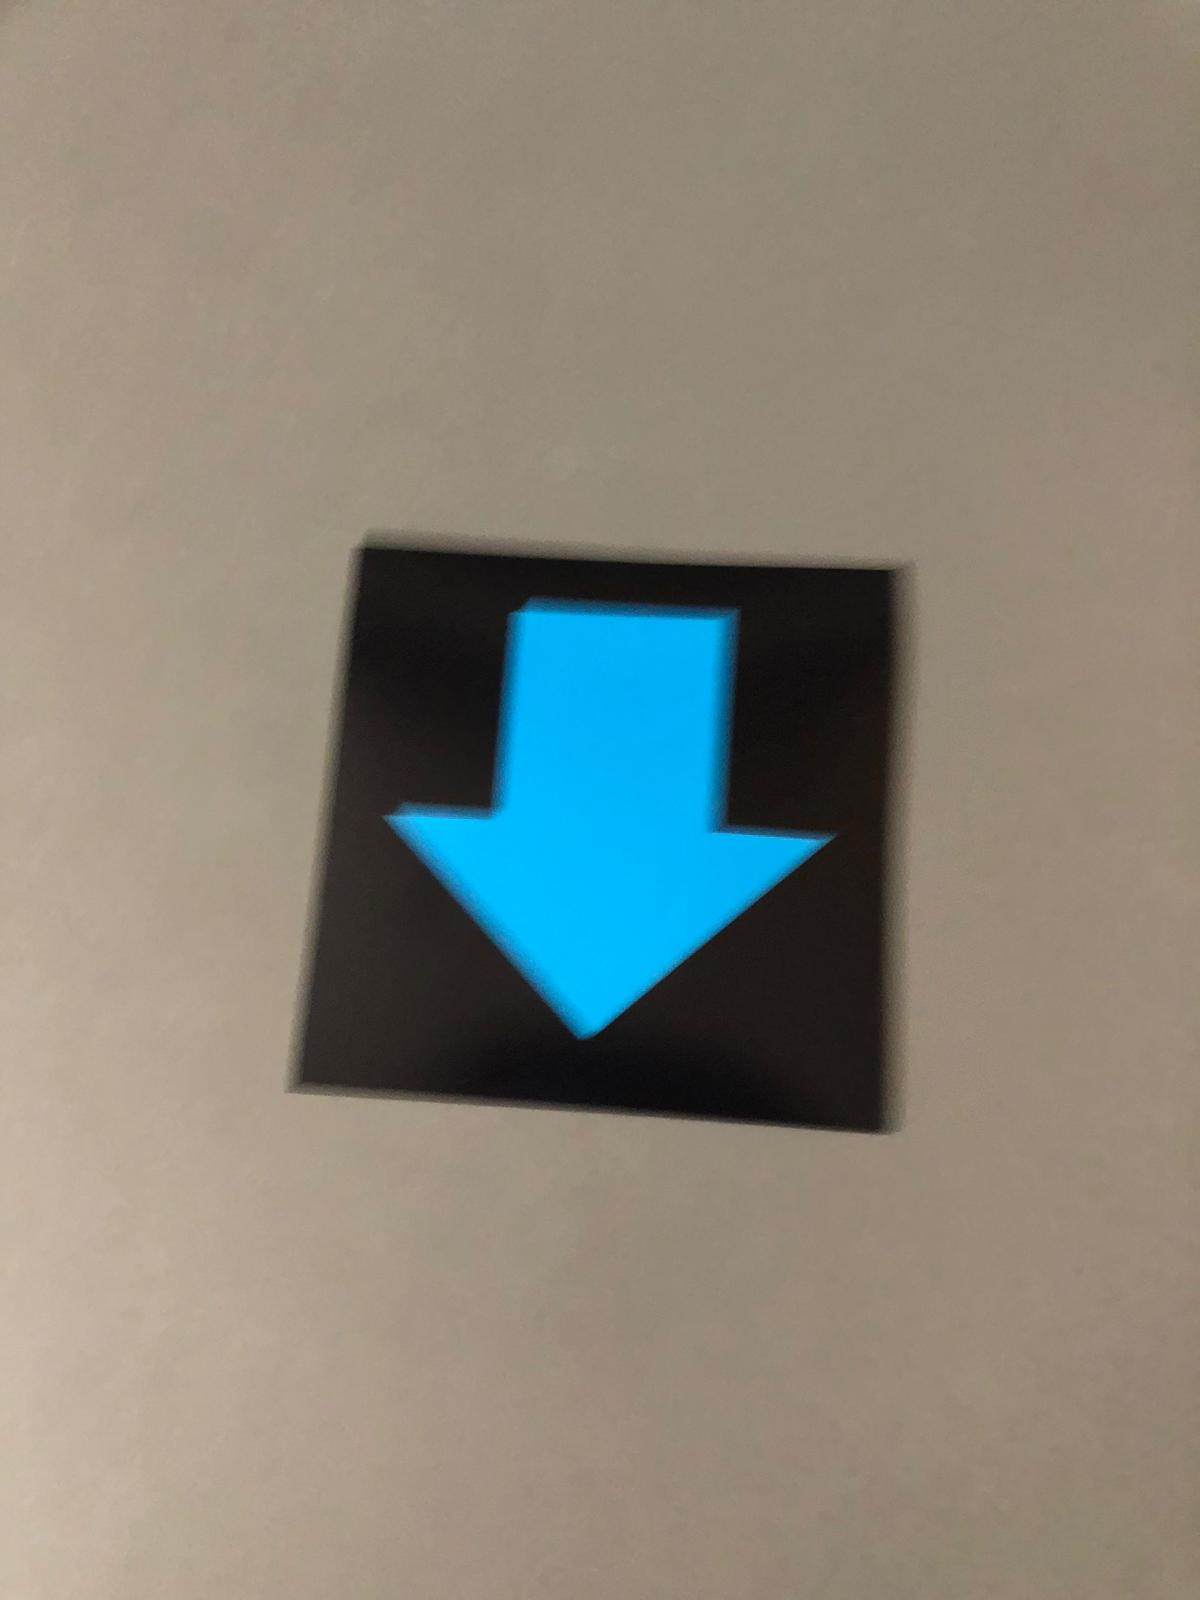Down Arrow: (358, 559, 858, 1105)
